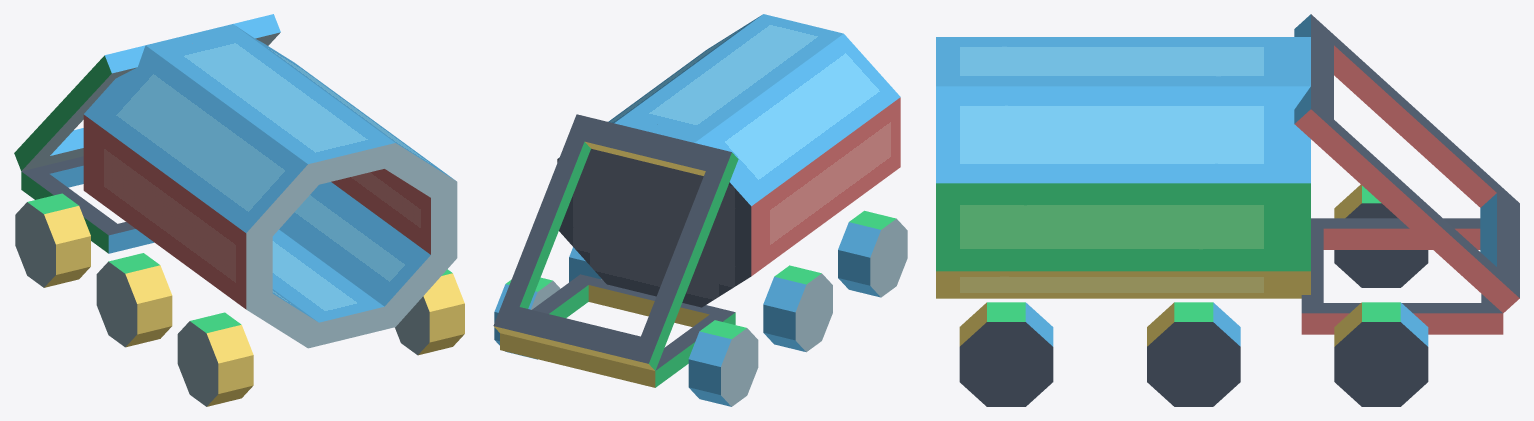
The model's file is Truckma.gltf.
The picture shows the model from 3 angles, left to right: view 1: azimuth 30°, elevation 25°; view 2: azimuth 150°, elevation 25°; view 3: azimuth 270°, elevation 25°; orthographic projection. The views are drawn at different scales.
Parts seen in each view (by area): view 1: tube, wheel (×4), top, bottom, front; view 2: tube, front, top, wheel (×5), bottom; view 3: tube, wheel (×4), top, bottom, front.
Boxes of the visible parts, x1,y1,x2,y2 form: tube: [93, 31, 457, 348]; wheel (×4): [15, 193, 464, 406]; top: [14, 14, 280, 171]; bottom: [21, 156, 153, 253]; front: [83, 24, 303, 197]; tube: [608, 14, 900, 269]; front: [557, 116, 760, 307]; top: [493, 114, 738, 370]; wheel (×5): [494, 210, 907, 406]; bottom: [500, 274, 735, 387]; tube: [936, 37, 1287, 298]; wheel (×4): [959, 184, 1428, 406]; top: [1294, 14, 1519, 313]; bottom: [1301, 218, 1503, 334]; front: [1287, 37, 1310, 298].
Bounding box in the file's own units: 0.875 × 0.8125 × 1.56.
Materials: 2 (2 with a texture image).
